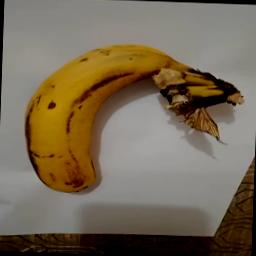Banana Unripe: (8, 43, 250, 199)
